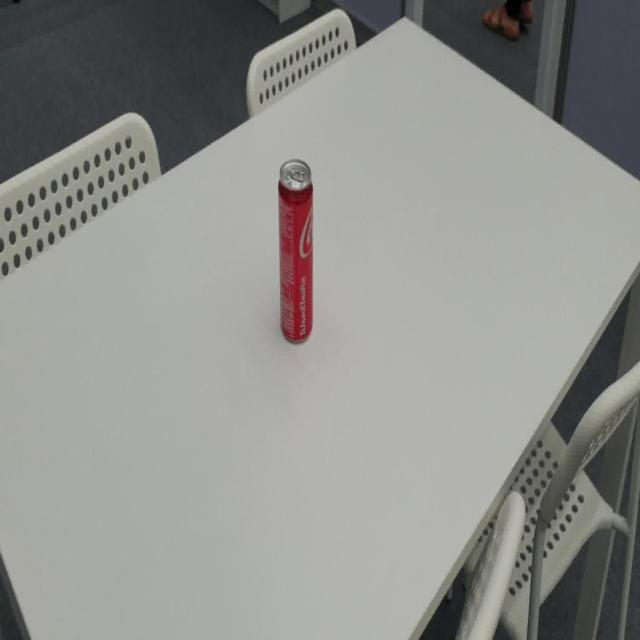coca-cola: (276, 154, 315, 351)
